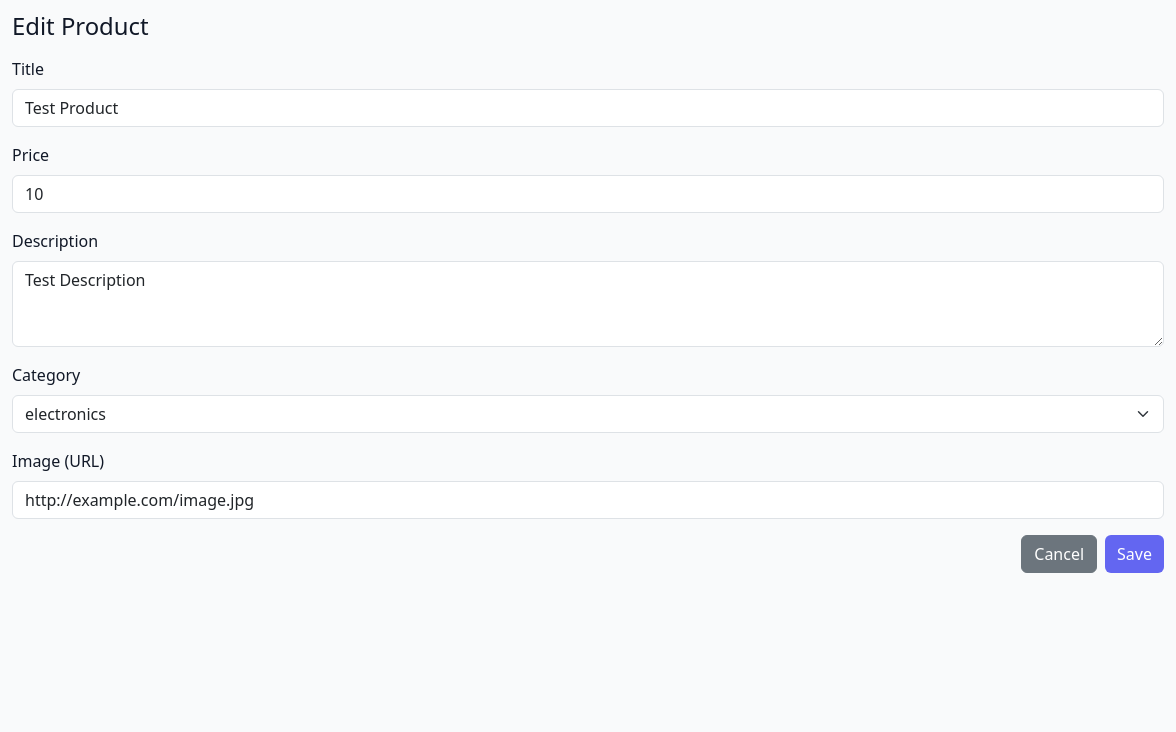
it: FromProducts › should display the loading spinner when submitting the form
Step 1. Click the button "Save" → (1135, 554), box [1105,535,1164,573]
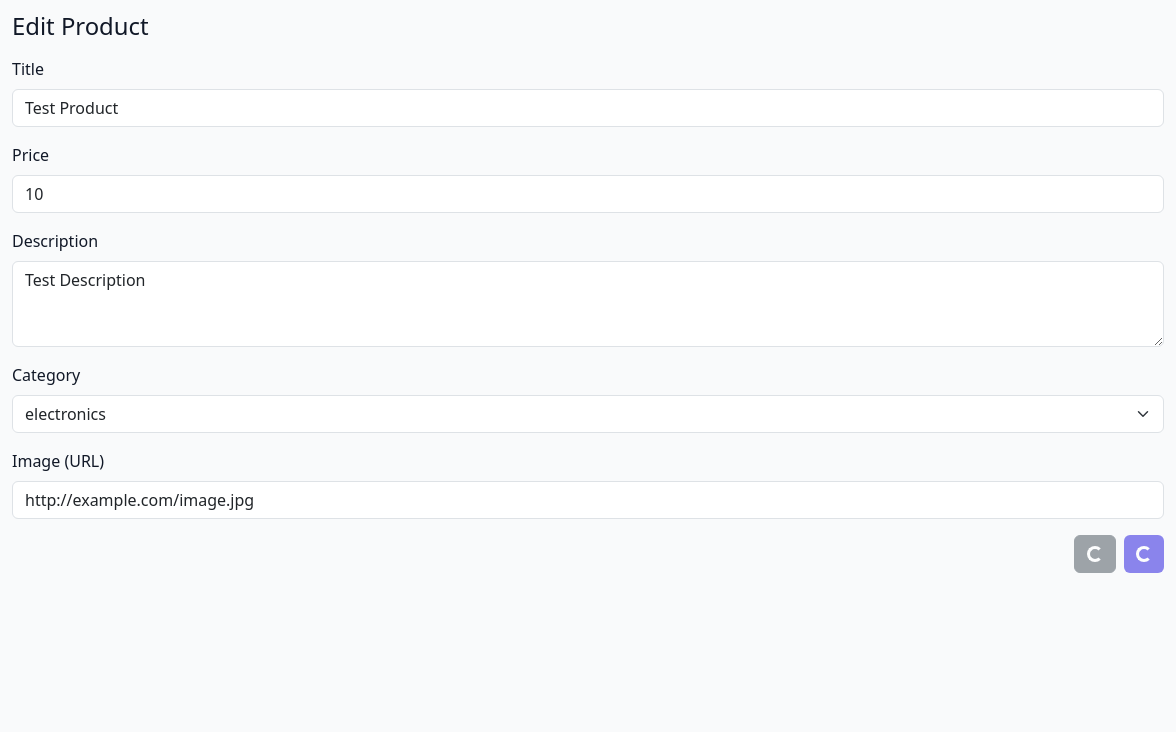
Now the 2nd button named "Save" is disabled, box [1124,535,1164,573]
Now the 1st message with class "spinner-border-sm" is shown, box [1087,546,1103,562]
Now the 1st button named "Cancel" is disabled, box [1074,535,1116,573]
